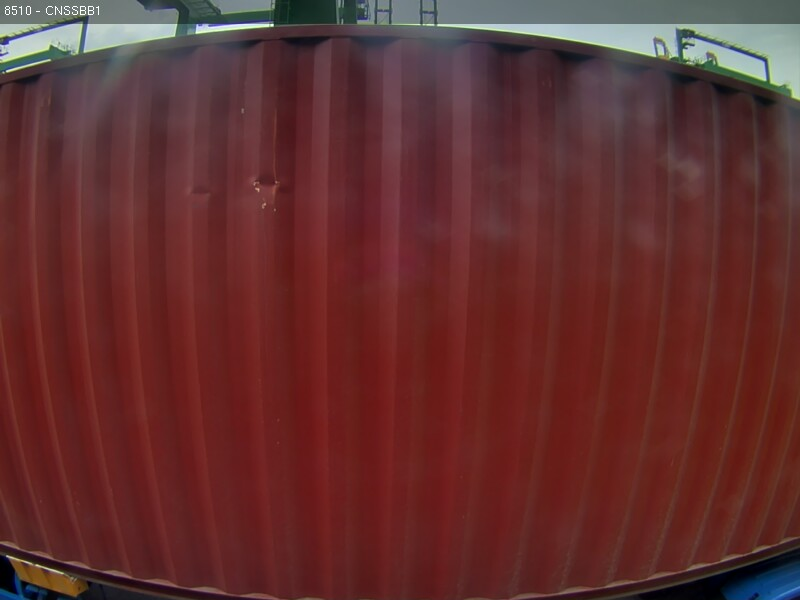container_no_door: (144, 54, 552, 538)
